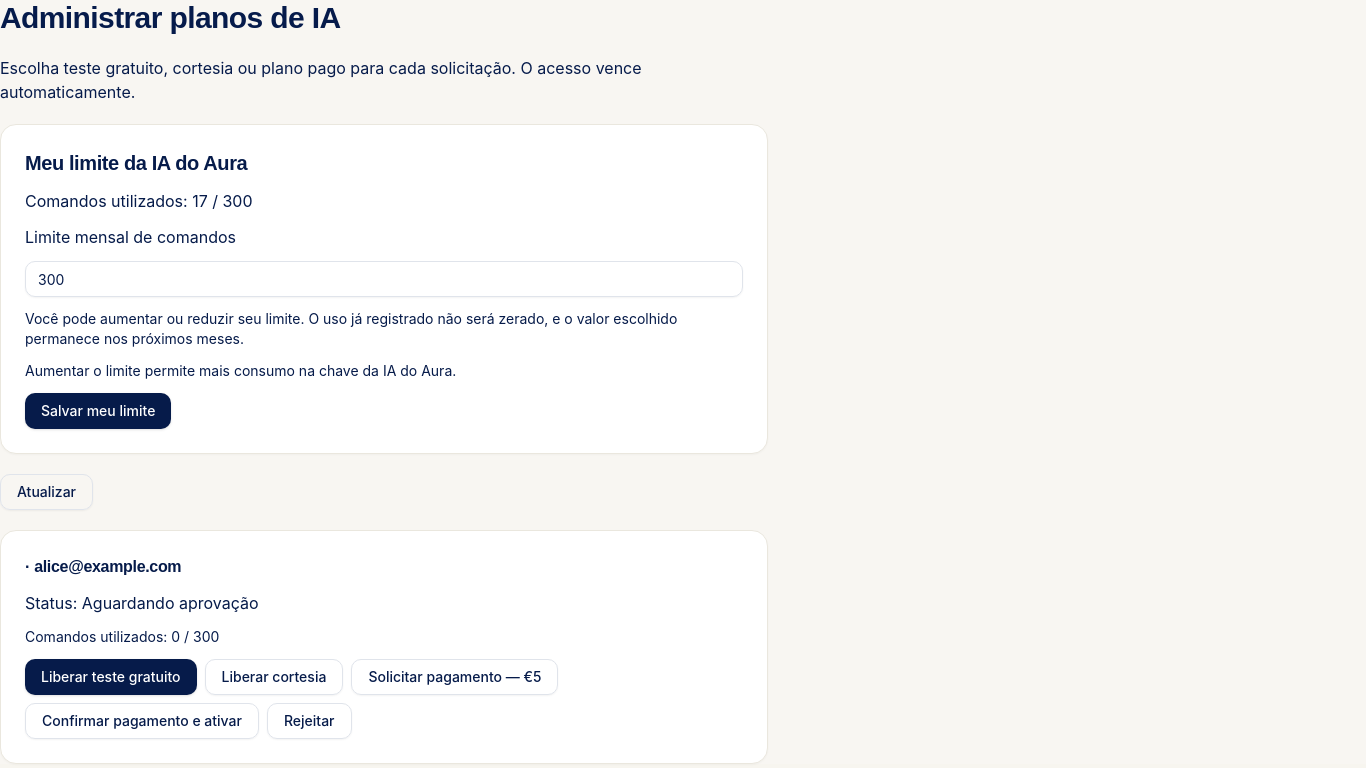
free trial starts with editable 24 hours and 20 commands and needs explicit confirmation
Later steps or results of the test are not shown.
Click the button "Liberar teste gratuito" at (111, 677), box x1=25 y1=659 x2=196 y2=695
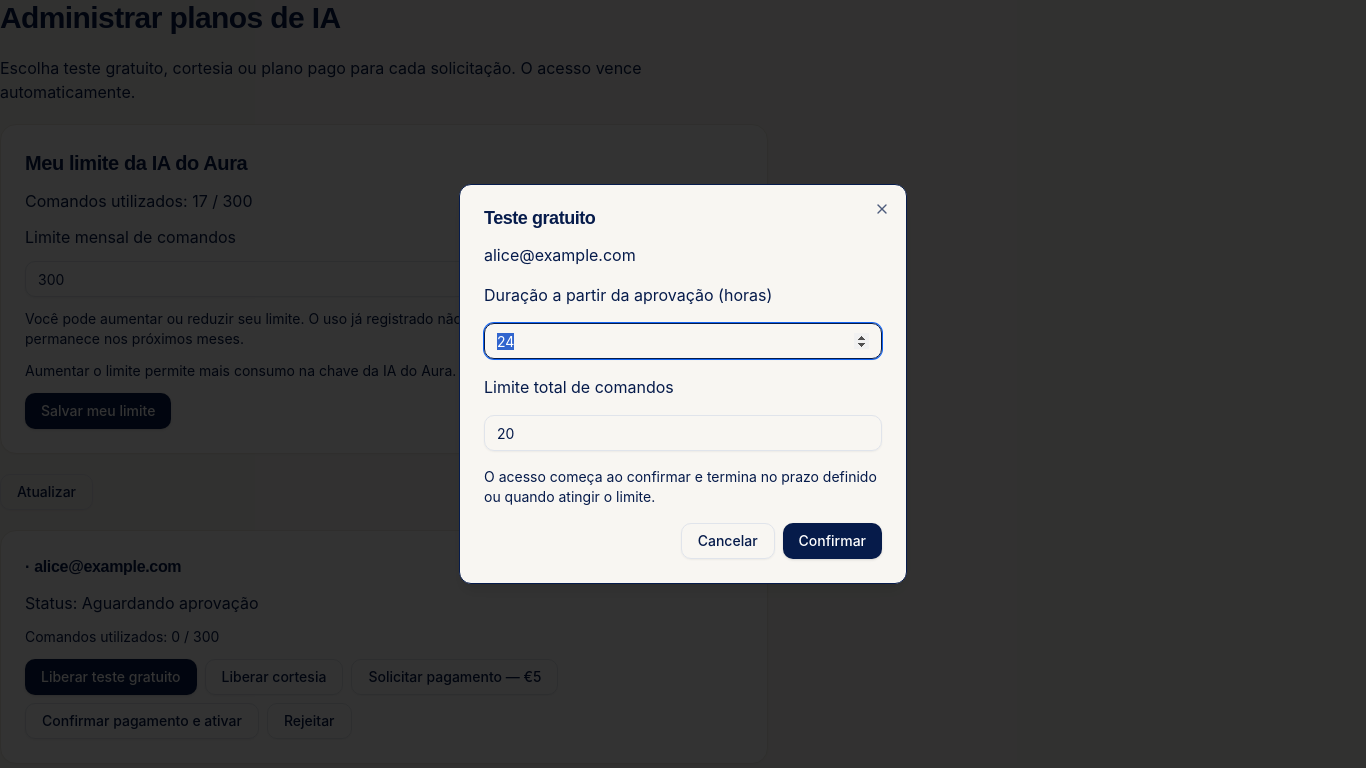
expect the number field with id "grant-hours" holds "24": met, box x1=484 y1=323 x2=882 y2=359
expect the number field with id "grant-limit" holds "20": met, box x1=484 y1=415 x2=882 y2=451
